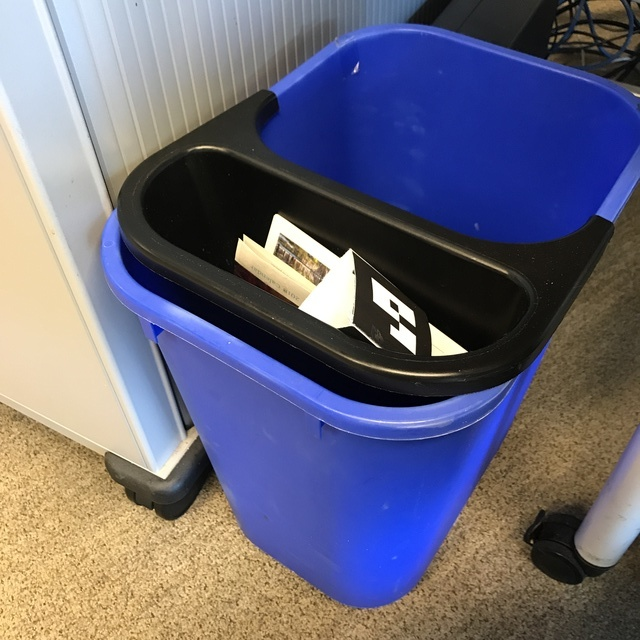ARTag: (294, 248, 433, 370)
